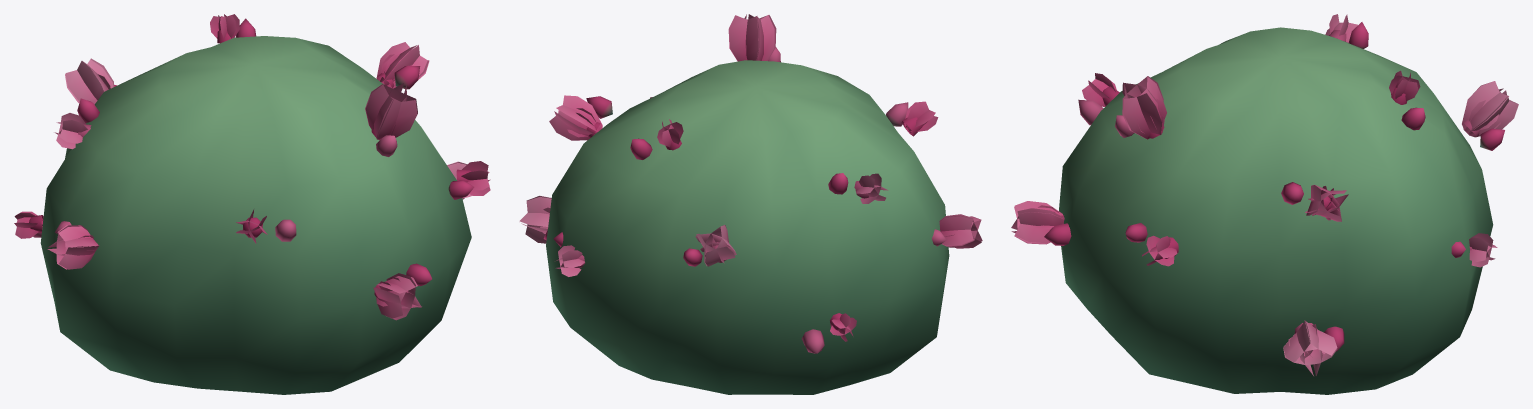
File: rose_raspberry.glb
3 renders of one model, left to right at view 1: azimuth 30°, elevation 25°; view 2: azimuth 150°, elevation 25°; view 3: azimuth 270°, elevation 25°, orthographic. The views are drawn at different scales.
Parts seen in each view (by area): view 1: rose_raspberry; view 2: rose_raspberry; view 3: rose_raspberry.
Part boxes in pixels (left/top/right/bottom): rose_raspberry: left=14, top=14, right=490, bottom=394; rose_raspberry: left=519, top=14, right=982, bottom=394; rose_raspberry: left=1011, top=14, right=1518, bottom=394.
Size of what is drawn, in the model's own units: 1.92 by 1.15 by 1.83.
